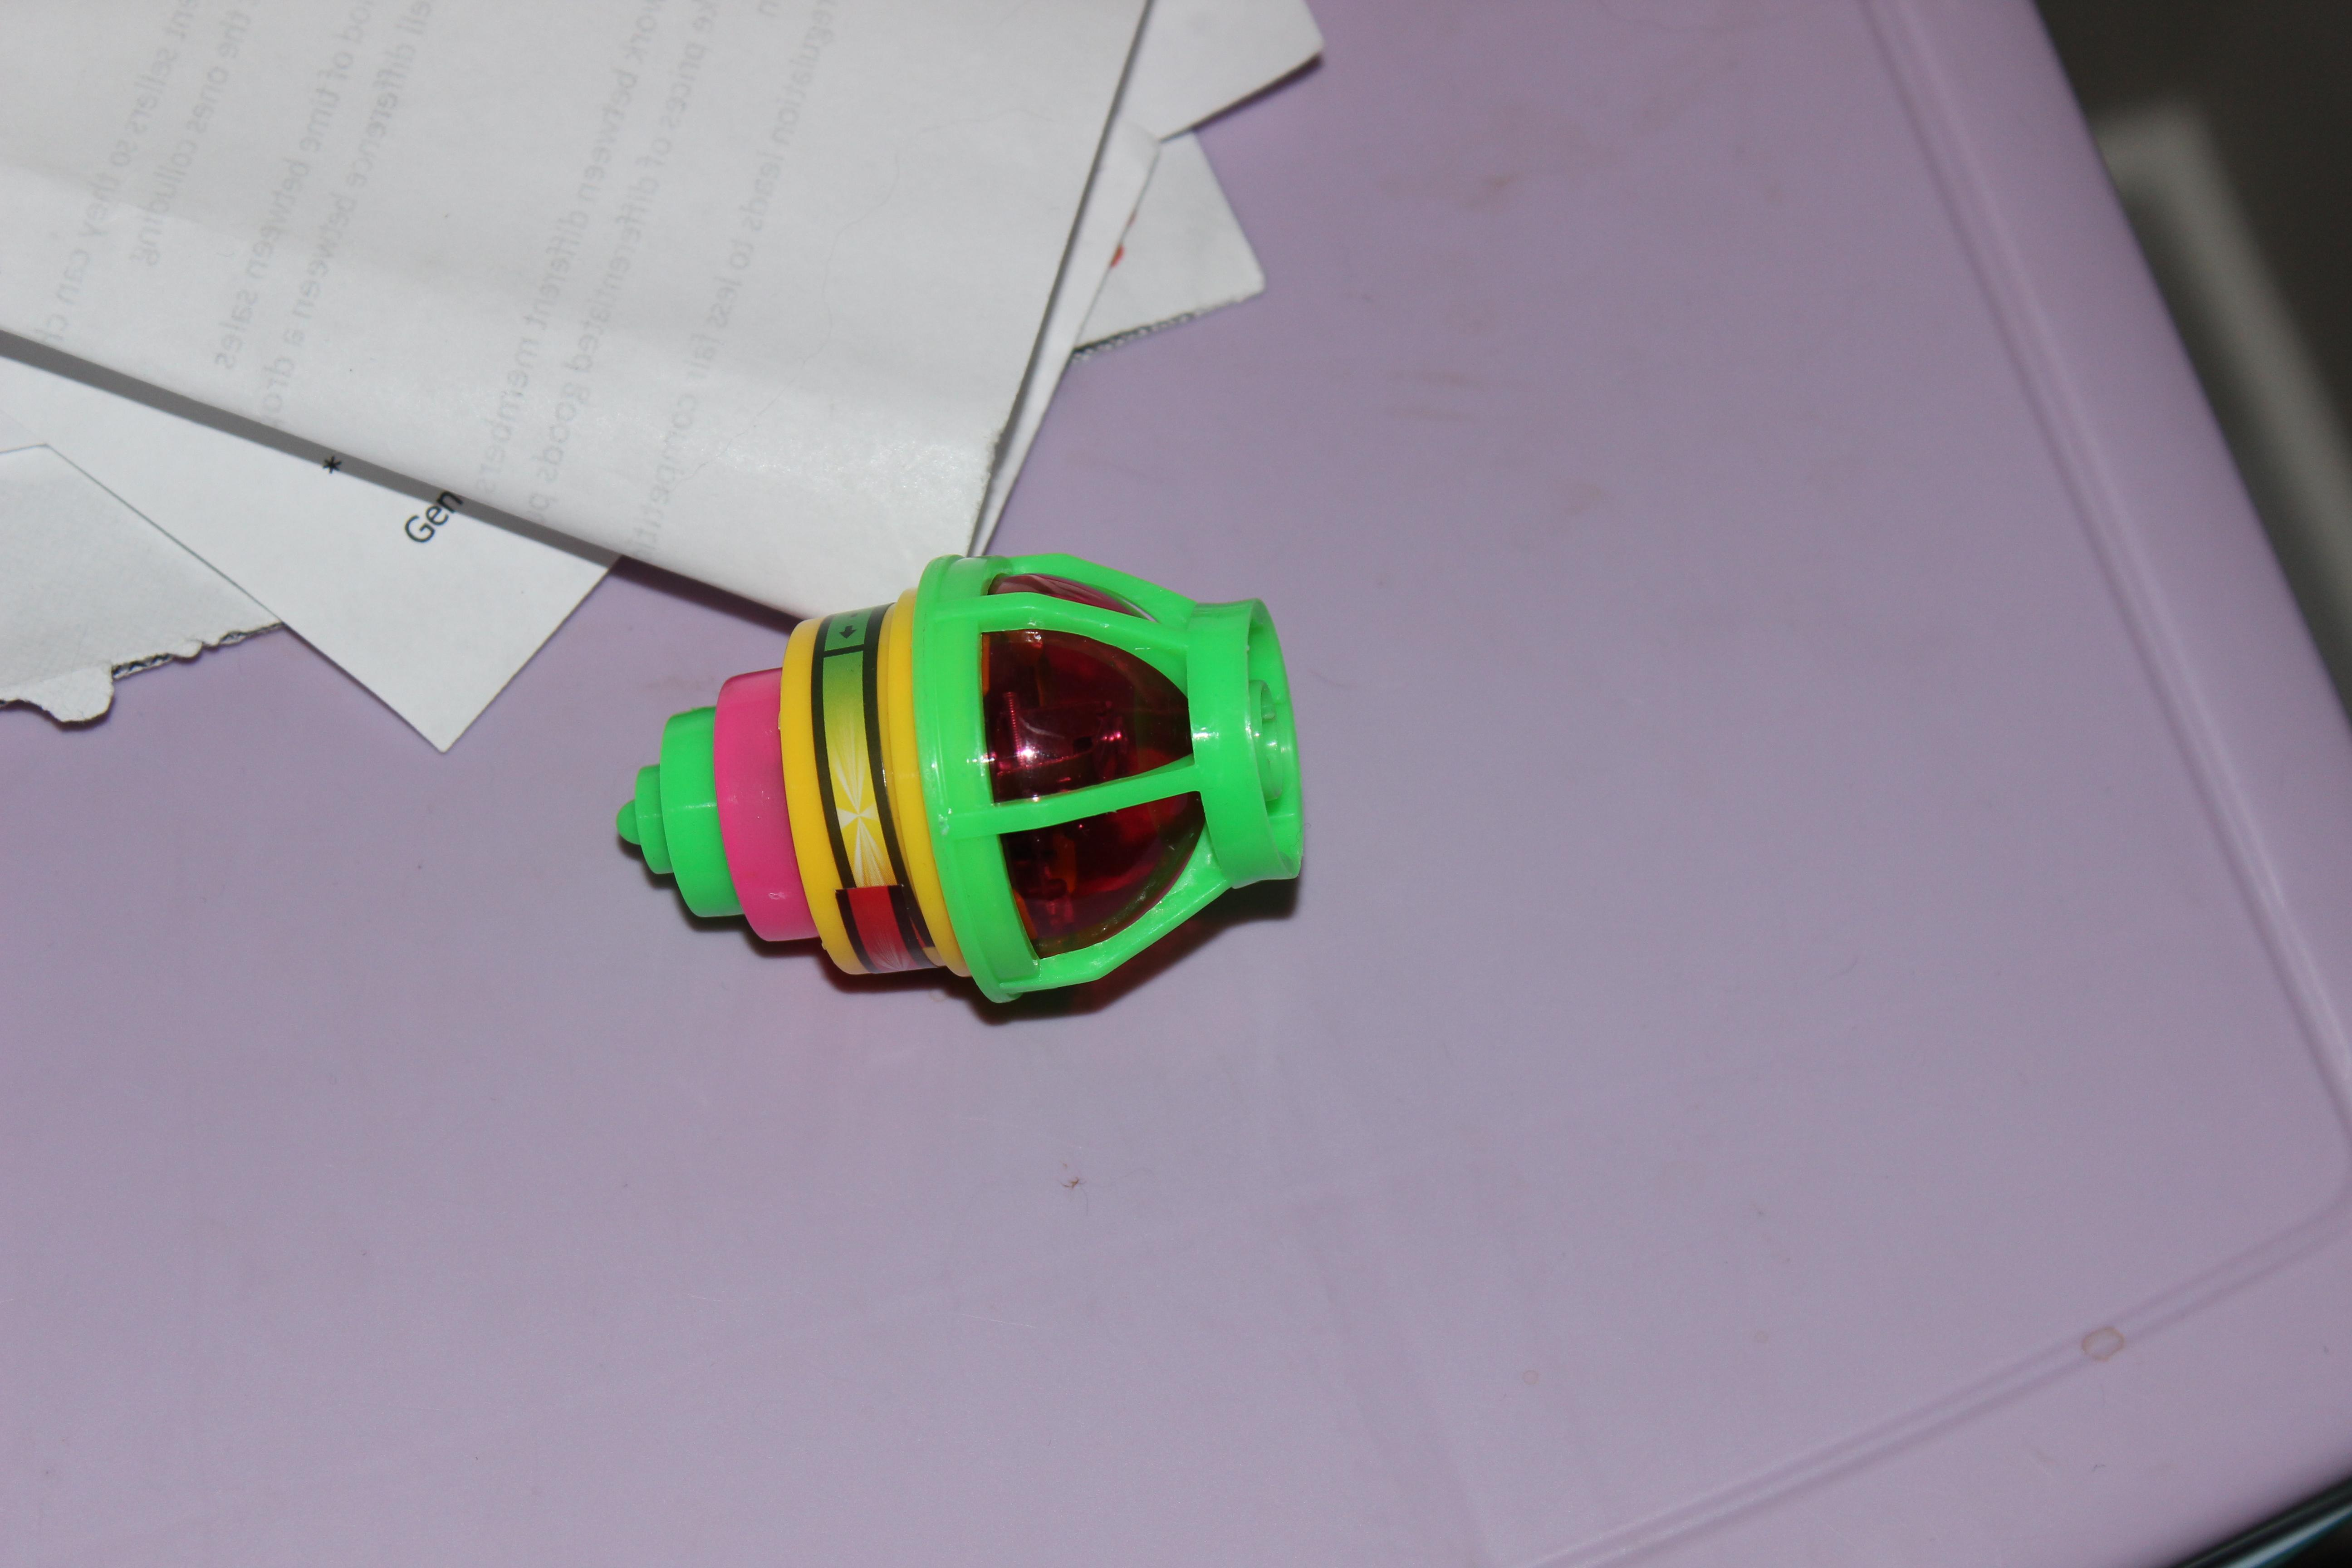gyroscope: (595, 530, 1360, 1041)
